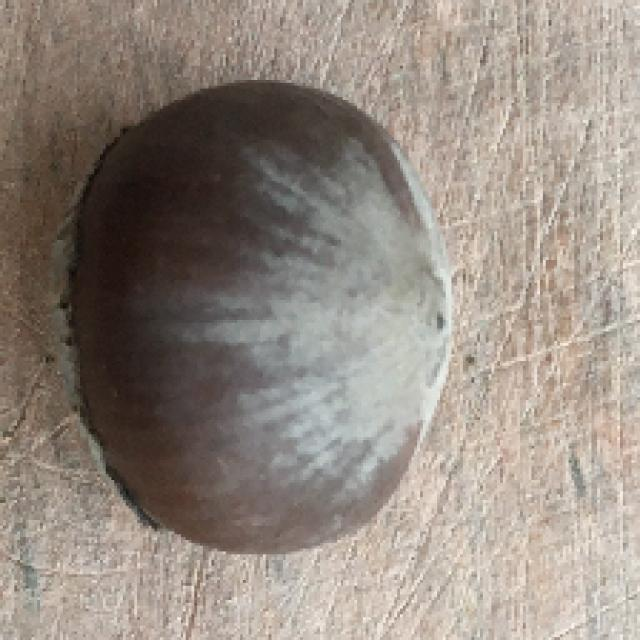damagedHazelnut: (70, 78, 458, 558)
